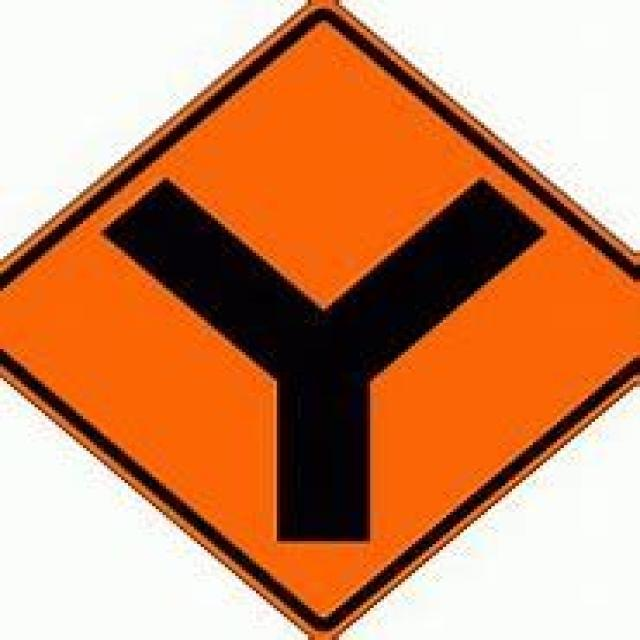y intersection: (35, 43, 615, 608)
